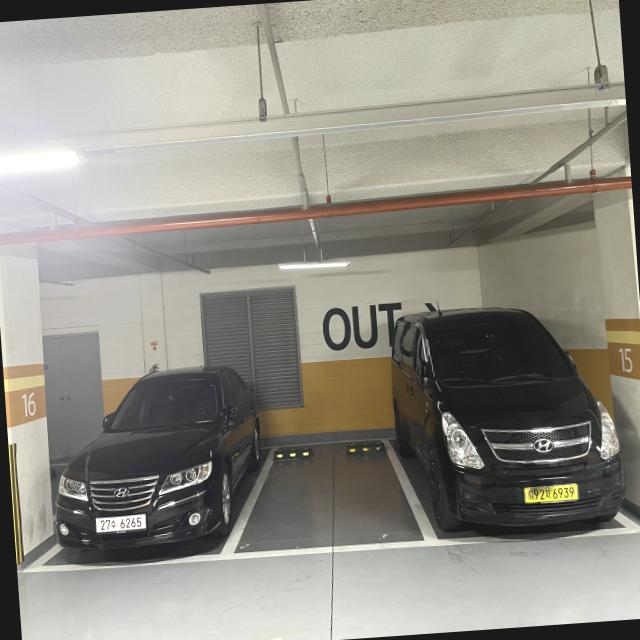car: (388, 288, 640, 561), (45, 349, 235, 582)
free: (216, 437, 445, 562)
